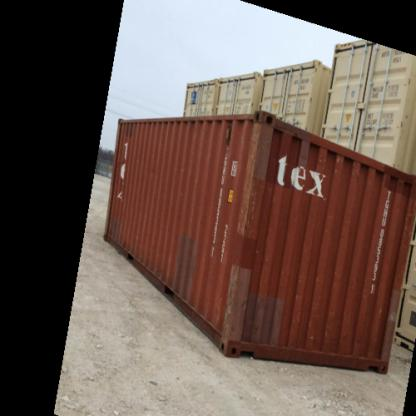Damage: (221, 264, 249, 338), (248, 116, 278, 180), (233, 177, 259, 242), (313, 145, 333, 174), (332, 153, 350, 179), (296, 270, 312, 289)
